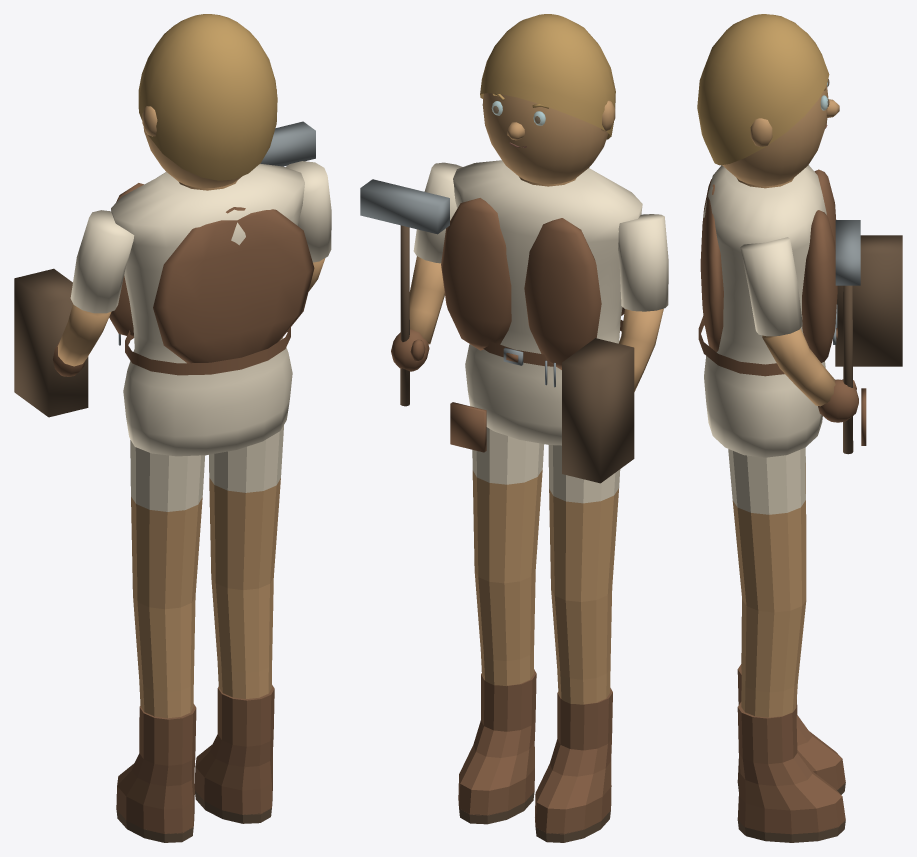
Rendered from SM_NPC_NACAR.glb.
3 views of the same model, side by side, from view 1: azimuth 30°, elevation 25°; view 2: azimuth 150°, elevation 25°; view 3: azimuth 270°, elevation 25° (orthographic). The views are drawn at different scales.
Parts seen in each view (by area): view 1: SM_NPC_NACAR_BODY, SM_NPC_NACAR_LEG_L, SM_NPC_NACAR_LEG_R, SM_NPC_NACAR_HAIR, SM_NPC_NACAR_ARM_L, SM_NPC_NACAR_ARM_R, SM_NPC_NACAR_HEAD; view 2: SM_NPC_NACAR_BODY, SM_NPC_NACAR_LEG_R, SM_NPC_NACAR_LEG_L, SM_NPC_NACAR_ARM_L, SM_NPC_NACAR_HAIR, SM_NPC_NACAR_ARM_R, SM_NPC_NACAR_HEAD; view 3: SM_NPC_NACAR_BODY, SM_NPC_NACAR_LEG_R, SM_NPC_NACAR_HAIR, SM_NPC_NACAR_ARM_R, SM_NPC_NACAR_ARM_L, SM_NPC_NACAR_HEAD, SM_NPC_NACAR_LEG_L.
Part boxes in pixels (x1,y1,x2,y2): SM_NPC_NACAR_BODY: [109, 163, 314, 456]; SM_NPC_NACAR_LEG_L: [116, 440, 205, 842]; SM_NPC_NACAR_LEG_R: [194, 425, 283, 823]; SM_NPC_NACAR_HAIR: [138, 14, 277, 180]; SM_NPC_NACAR_ARM_L: [14, 210, 134, 417]; SM_NPC_NACAR_ARM_R: [260, 121, 331, 291]; SM_NPC_NACAR_HEAD: [142, 89, 276, 188]; SM_NPC_NACAR_BODY: [441, 160, 642, 452]; SM_NPC_NACAR_LEG_R: [458, 427, 544, 824]; SM_NPC_NACAR_LEG_L: [535, 445, 620, 842]; SM_NPC_NACAR_ARM_L: [562, 214, 668, 483]; SM_NPC_NACAR_HAIR: [480, 14, 615, 139]; SM_NPC_NACAR_ARM_R: [360, 162, 462, 406]; SM_NPC_NACAR_HEAD: [482, 93, 615, 184]; SM_NPC_NACAR_BODY: [698, 165, 866, 457]; SM_NPC_NACAR_LEG_R: [728, 447, 845, 842]; SM_NPC_NACAR_HAIR: [697, 14, 829, 165]; SM_NPC_NACAR_ARM_R: [740, 220, 860, 454]; SM_NPC_NACAR_ARM_L: [835, 235, 902, 366]; SM_NPC_NACAR_HEAD: [722, 85, 839, 186]; SM_NPC_NACAR_LEG_L: [737, 456, 845, 794].
Bounding box in the file's own units: 0.6391 × 1.81 × 0.4264.
